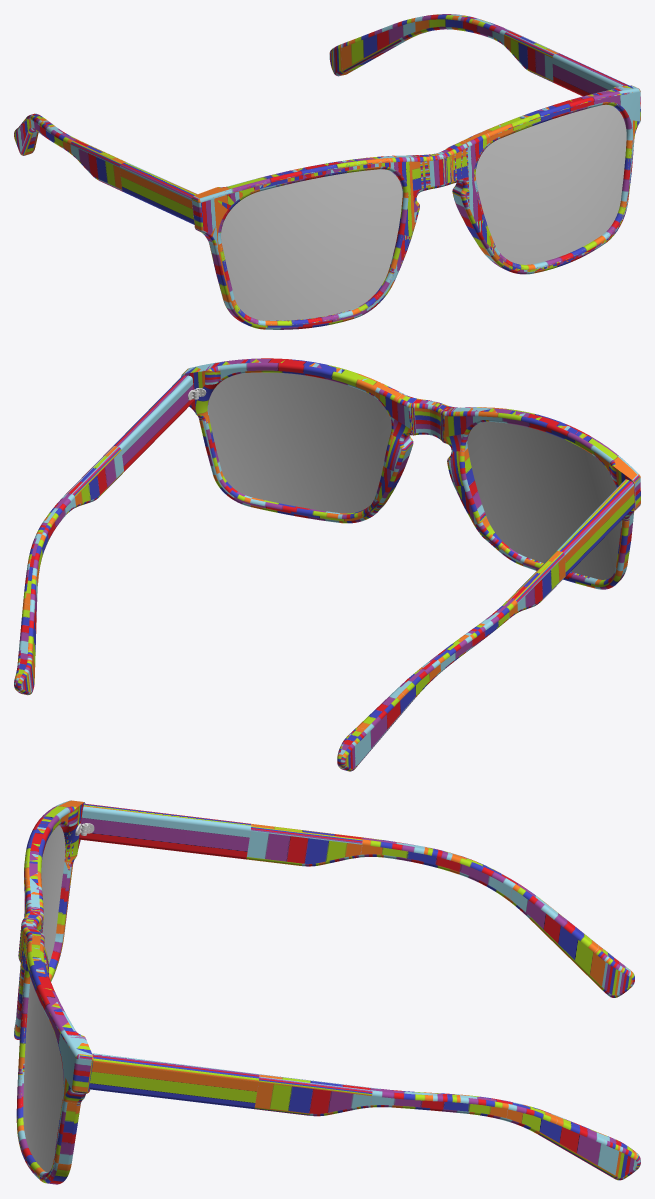
File: textured_attempt.glb
3 renders of one model, top to bottom at view 1: azimuth 30°, elevation 25°; view 2: azimuth 150°, elevation 25°; view 3: azimuth 270°, elevation 25°, orthographic. The views are drawn at different scales.
Parts seen in each view (by area): view 1: Renders.003, Renders.014, Renders.015, Renders.007, Renders.016; view 2: Renders.014, Renders.015, Renders.003, Renders.016, Renders.007; view 3: Renders.016, Renders.007, Renders.015, Renders.014, Renders.003.
Boxes of the visible parts, x1=… form: Renders.003: x1=221, y1=169, x2=402, y2=320; Renders.014: x1=475, y1=104, x2=626, y2=264; Renders.015: x1=191, y1=85, x2=640, y2=329; Renders.007: x1=329, y1=14, x2=628, y2=96; Renders.016: x1=14, y1=113, x2=197, y2=224; Renders.014: x1=208, y1=372, x2=391, y2=513; Renders.015: x1=181, y1=358, x2=640, y2=589; Renders.003: x1=467, y1=421, x2=621, y2=579; Renders.016: x1=337, y1=479, x2=634, y2=771; Renders.007: x1=14, y1=375, x2=194, y2=695; Renders.016: x1=79, y1=803, x2=634, y2=997; Renders.007: x1=89, y1=1053, x2=640, y2=1180; Renders.015: x1=14, y1=800, x2=93, y2=1184; Renders.014: x1=23, y1=978, x2=63, y2=1172; Renders.003: x1=41, y1=825, x2=65, y2=963.
Bounding box in the file's own units: 0.1438 × 0.048 × 0.1477.
5 materials, 3 textured.
